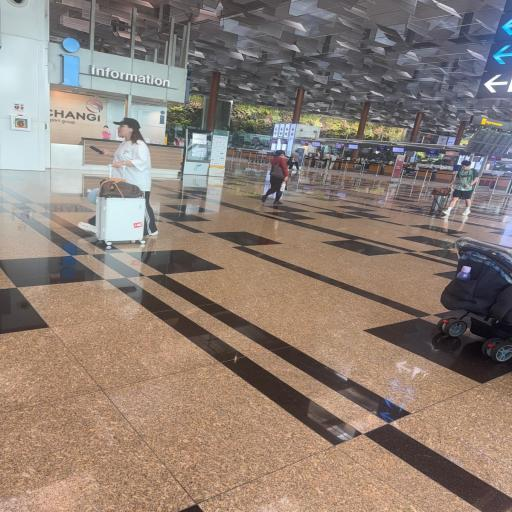person_right: (260, 149, 290, 205)
person_with_luggage_left: (78, 118, 158, 250), (430, 160, 479, 217)
